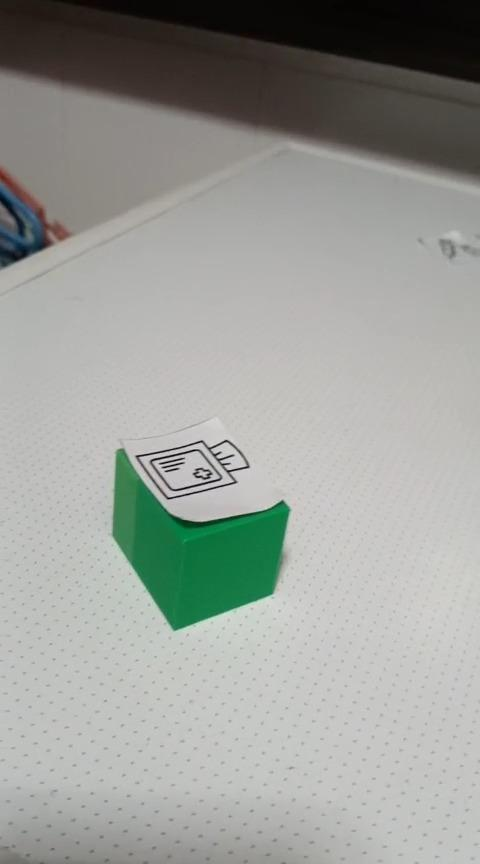Gauze: (110, 415, 291, 631)
